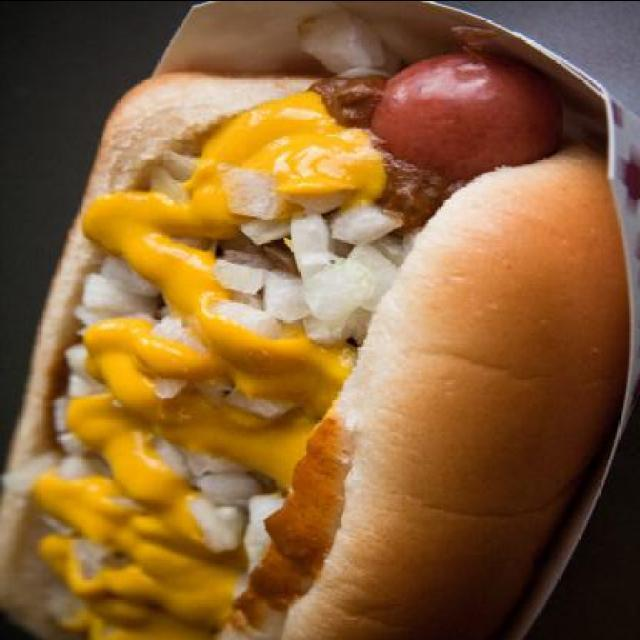Hot dog: (0, 71, 634, 640)
